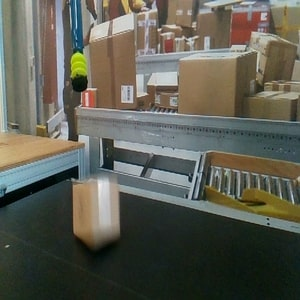box: (71, 173, 123, 249)
